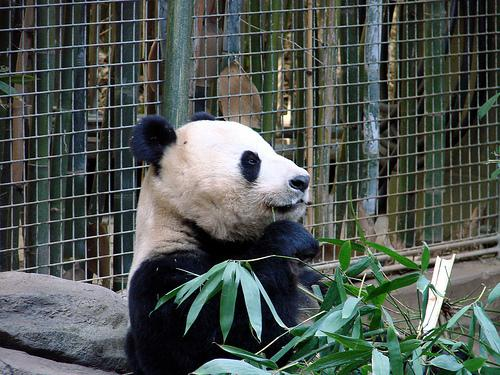panda: (125, 113, 326, 374), (227, 295, 291, 356)
